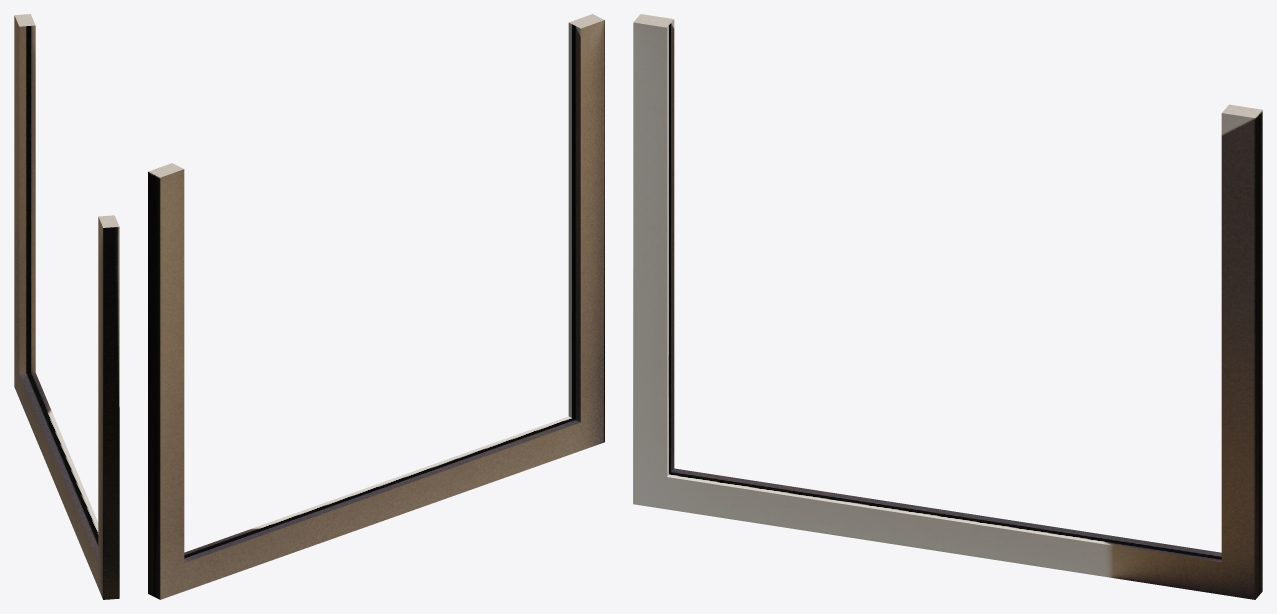
Rendered from Building_05_L03_Ap_03_Frames.fbx.
3 renders of one model, left to right at view 1: azimuth 30°, elevation 25°; view 2: azimuth 150°, elevation 25°; view 3: azimuth 270°, elevation 25°, orthographic. The views are drawn at different scales.
Visible parts, largest first — view 1: Building_05_L03_Ap_03_Frames; view 2: Building_05_L03_Ap_03_Frames; view 3: Building_05_L03_Ap_03_Frames.
Boxes of the visible parts, x1,y1,x2,y2 form: Building_05_L03_Ap_03_Frames: (14,14,119,599); Building_05_L03_Ap_03_Frames: (148,14,604,599); Building_05_L03_Ap_03_Frames: (633,14,1262,599).
Size of the model in its own units: 0.689 by 1.48 by 1.76.
Materials: 1 (1 with a texture image).
